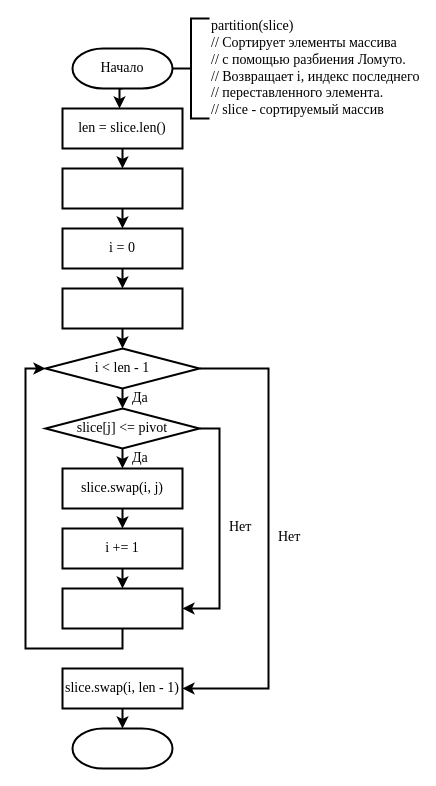
This 436x786 diagram has some shape labels left out. Each missing label, with the centre of its shape:
j += 1: (x=122, y=608)
j = 0: (x=122, y=308)
pivot = slice[len - 1]: (x=122, y=188)
Конец: (x=122, y=748)
